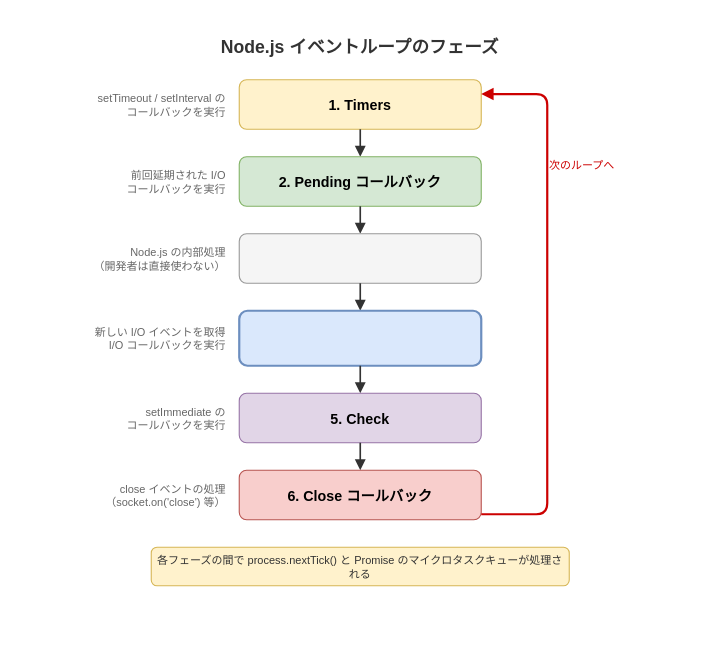
Image size: 719x664. Some labels were removed from this diagram. The shapes that lost their labels are listed below. From the top down, each one's centre as x and y in pixels, then its label:
At (x=359, y=258): "3. Idle / Prepare".
At (x=360, y=337): "4. Poll（メインフェーズ）".
